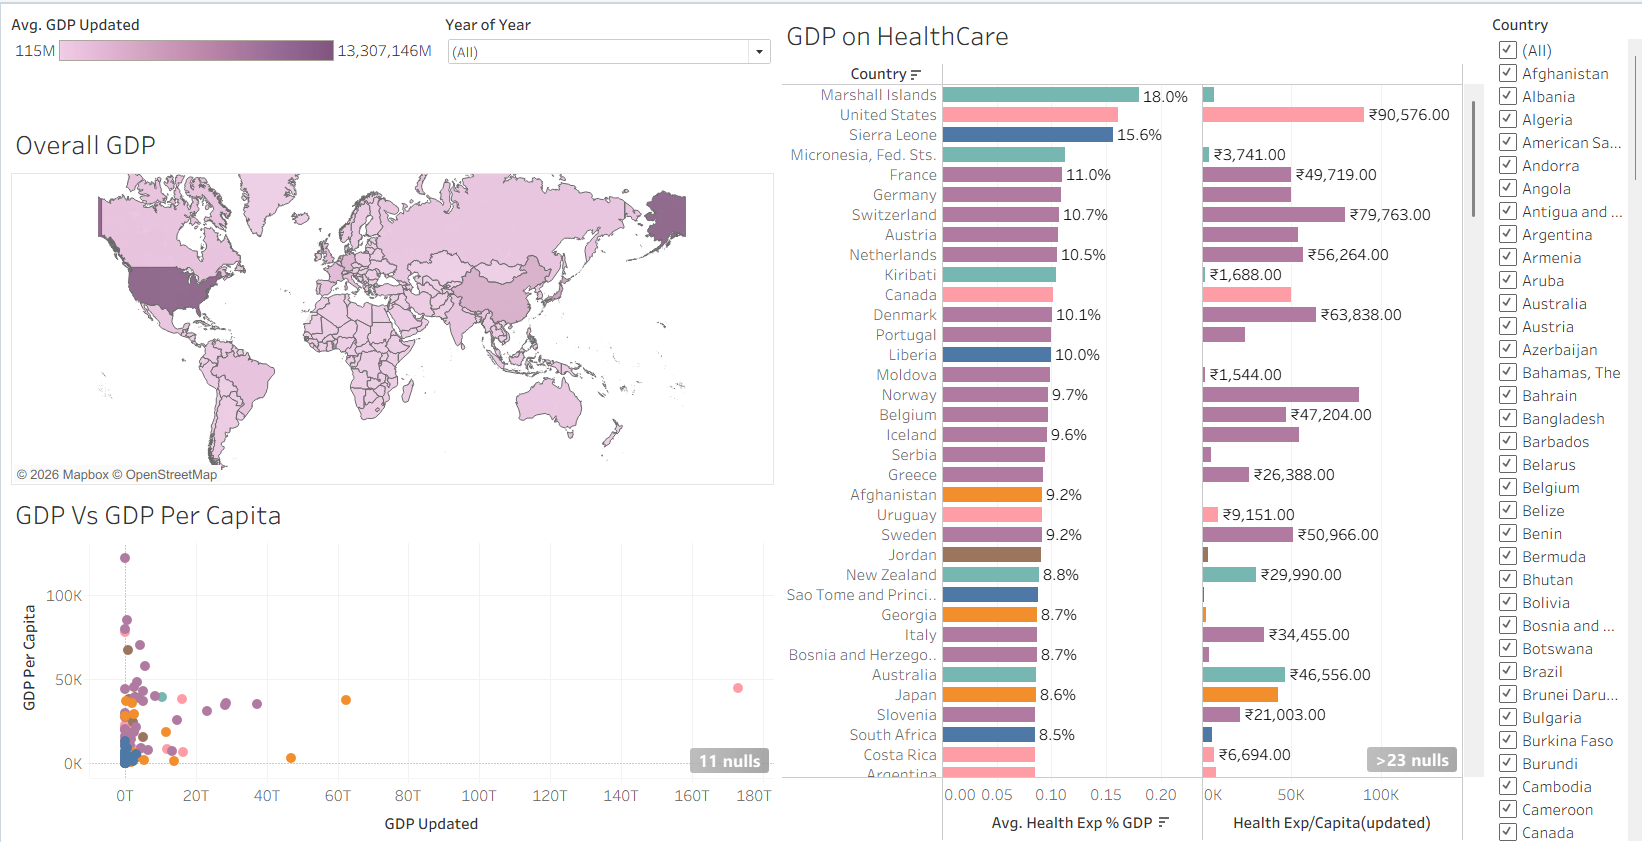

This screenshot's page, from the dashboard's own definition file:
{"tool":"tableau","page":{"name":"Economy Dashboard","canvas":[1000,1000],"units":"permille","ordinal":1},"visuals":[{"type":"legend","title":"Overall GDP","param":"[federated.1vapjht150gv1h16s4dpv105fy5q].[avg:Calculation_0437056408559617:qk]","box":[4.8,9.4,261.9,128.1]},{"type":"filter","title":"GDP Vs GDP Per Capita","param":"[federated.1vapjht150gv1h16s4dpv105fy5q].[yr:Year:ok]","box":[266.7,9.4,203.4,128.1]},{"type":"worksheet","title":"GDP on HealthCare","mark":"Automatic","rows":["Country"],"cols":["Health Exp % GDP","Calculation_1358722686287875"],"box":[470.1,9.4,428.5,981.2]},{"type":"filter","title":"Overall GDP","param":"[federated.1vapjht150gv1h16s4dpv105fy5q].[none:Country:nk]","box":[898.6,9.4,96.6,981.2]},{"type":"worksheet","title":"Overall GDP","mark":"Multipolygon","box":[4.8,137.5,465.3,434.8]},{"type":"worksheet","title":"GDP Vs GDP Per Capita","mark":"Circle","rows":["GDP Updated (copy)_0437056410279938"],"cols":["Calculation_0437056408559617"],"box":[4.8,572.2,465.3,418.4]}]}

Visuals, with their boxes on the dashboard's canvas, which has no fixed pixel size, in thousandths of its width and height (x1, y1, x2, y2). These are canvas units, not pixel positions in the 1642x842 screenshot, which may show the page scaled, cropped or inside an application window:
"Overall GDP" legend: detection(5, 9, 267, 138)
"GDP Vs GDP Per Capita" filter: detection(267, 9, 470, 138)
"GDP on HealthCare" worksheet: detection(470, 9, 899, 991)
"Overall GDP" filter: detection(899, 9, 995, 991)
"Overall GDP" worksheet (Multipolygon marks): detection(5, 138, 470, 572)
"GDP Vs GDP Per Capita" worksheet (Circle marks): detection(5, 572, 470, 991)
